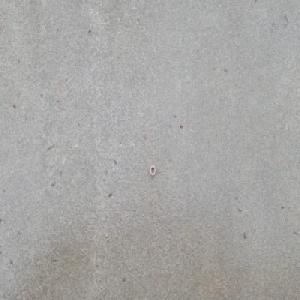Nut: (149, 164, 156, 176)
